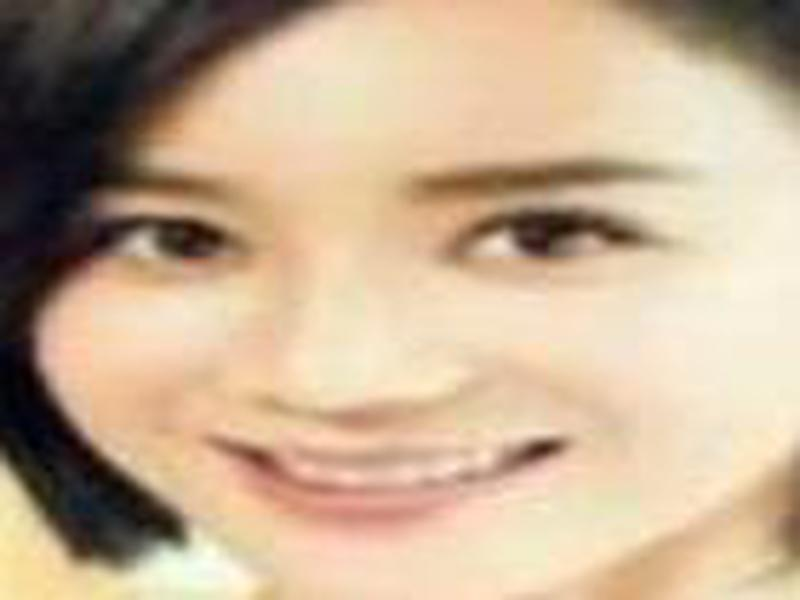without_mask: (38, 55, 800, 597)
